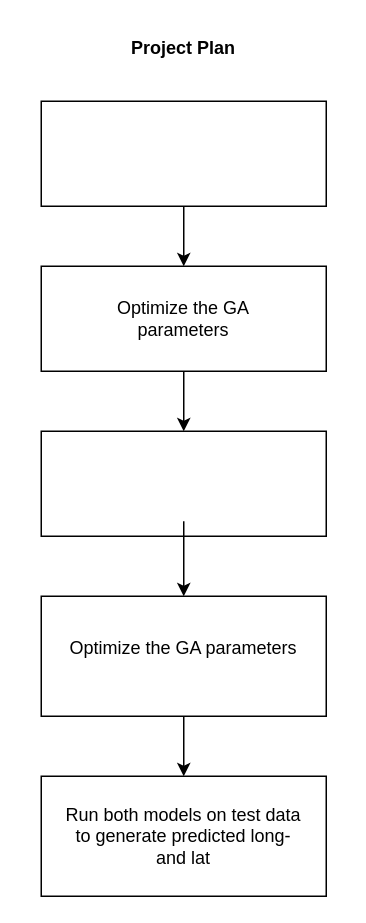
Image size: 366x923. Some labels were removed from this diagram. Each missing label, with the centre of its shape:
"Create GA for latitude feature selection" goes at (183,153).
"Create GA for longitude feature selection" goes at (183,483).
